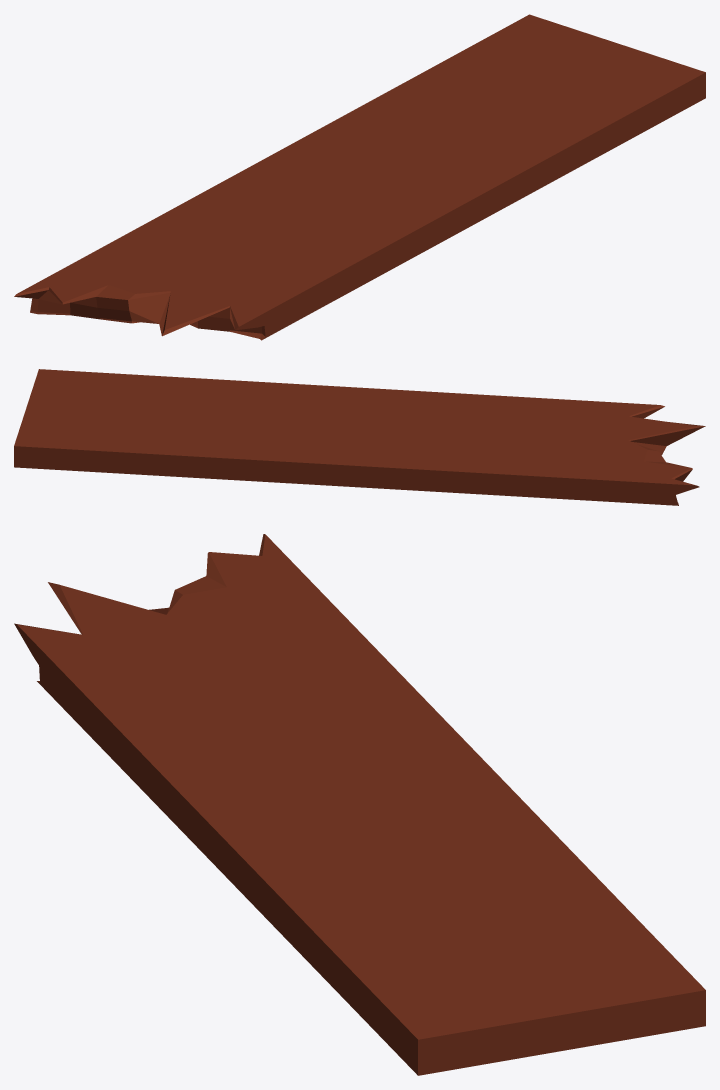
The model's file is BrokenWood_02.fbx.
The picture shows the model from 3 angles, top to bottom: view 1: azimuth 30°, elevation 25°; view 2: azimuth 150°, elevation 25°; view 3: azimuth 270°, elevation 25°; orthographic projection. The views are drawn at different scales.
Parts seen in each view (by area): view 1: Brokenwood_02; view 2: Brokenwood_02; view 3: Brokenwood_02.
Boxes of the visible parts, bbox=[...] form: Brokenwood_02: bbox=[14, 14, 705, 340]; Brokenwood_02: bbox=[14, 369, 705, 505]; Brokenwood_02: bbox=[14, 534, 705, 1075].
Size of the model in its own units: 298 by 9.86 by 171.
